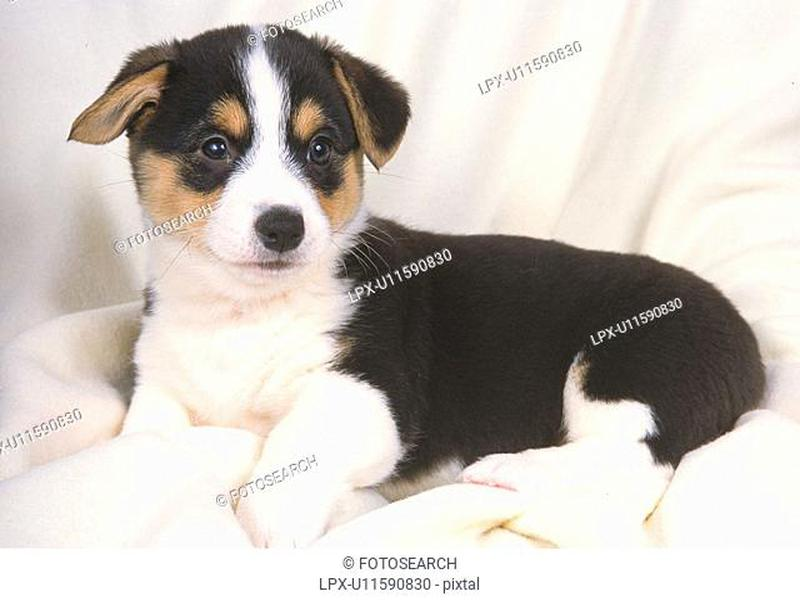corgi: (69, 24, 412, 277)
